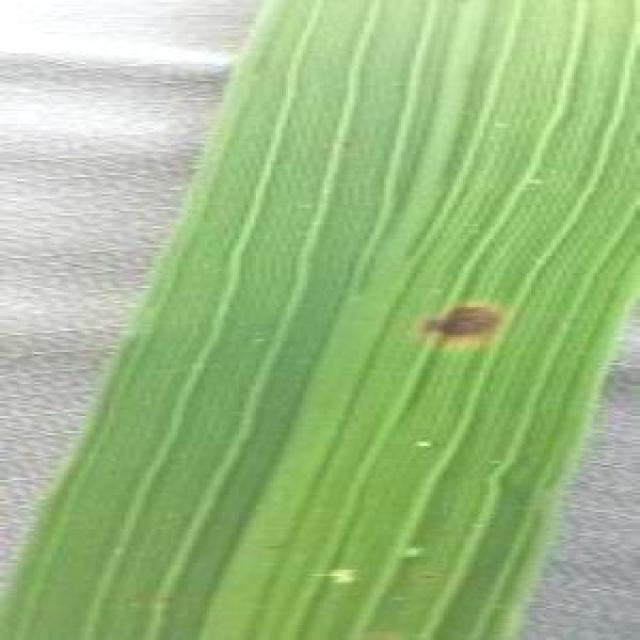Rice_Brownspot: (406, 284, 516, 358)
